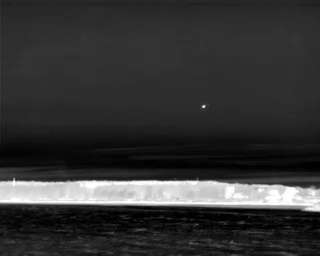HELICOPTER: (199, 102, 209, 113)
